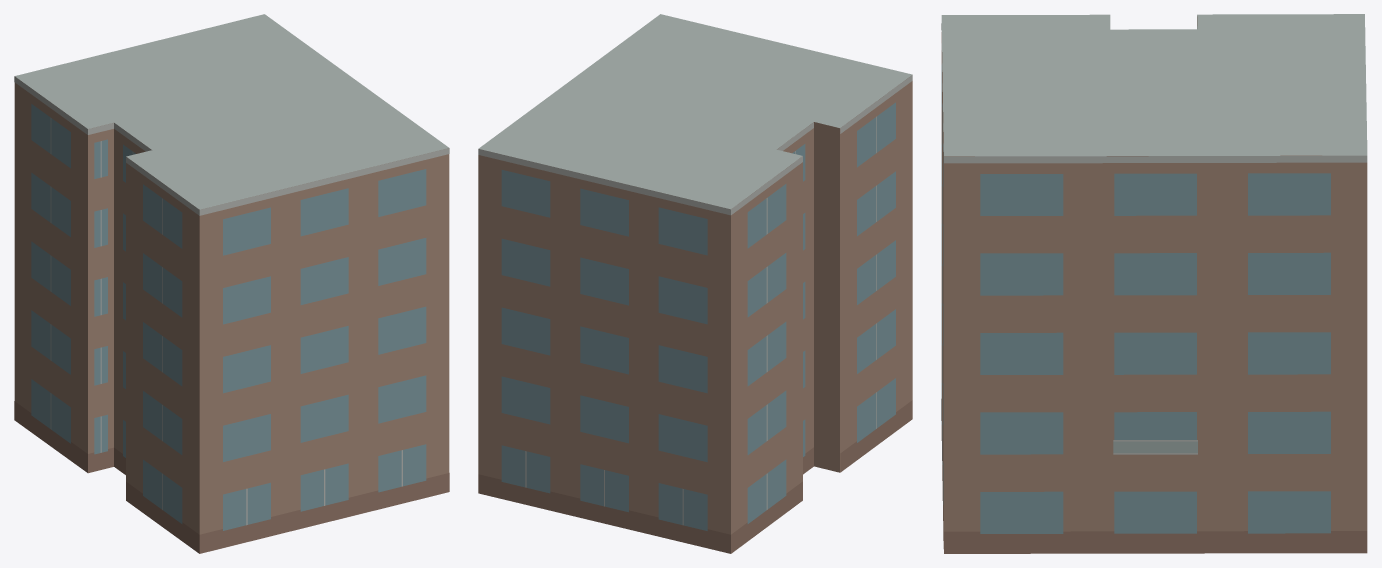
The model's file is survey-upis-32934361.glb.
The picture shows the model from 3 angles, left to right: view 1: azimuth 30°, elevation 25°; view 2: azimuth 150°, elevation 25°; view 3: azimuth 270°, elevation 25°; orthographic projection. The views are drawn at different scales.
Parts seen in each view (by area): view 1: survey-upis-32934361.tmp; view 2: survey-upis-32934361.tmp; view 3: survey-upis-32934361.tmp.
Part boxes in pixels (box(x1,y1,x2,y2)): survey-upis-32934361.tmp: box(14, 14, 449, 553); survey-upis-32934361.tmp: box(478, 14, 912, 553); survey-upis-32934361.tmp: box(941, 14, 1367, 553).
Bounding box in the file's own units: 10.63 × 13.8 × 13.41.
